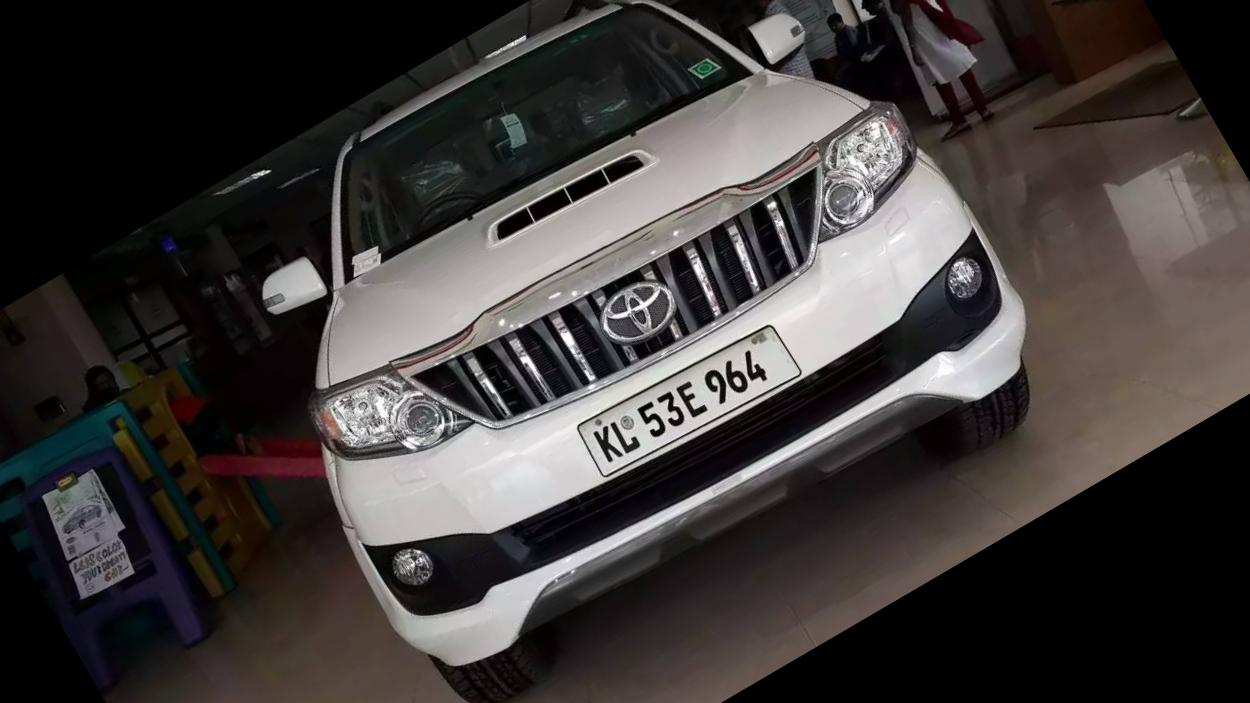plate: (561, 299, 818, 502)
